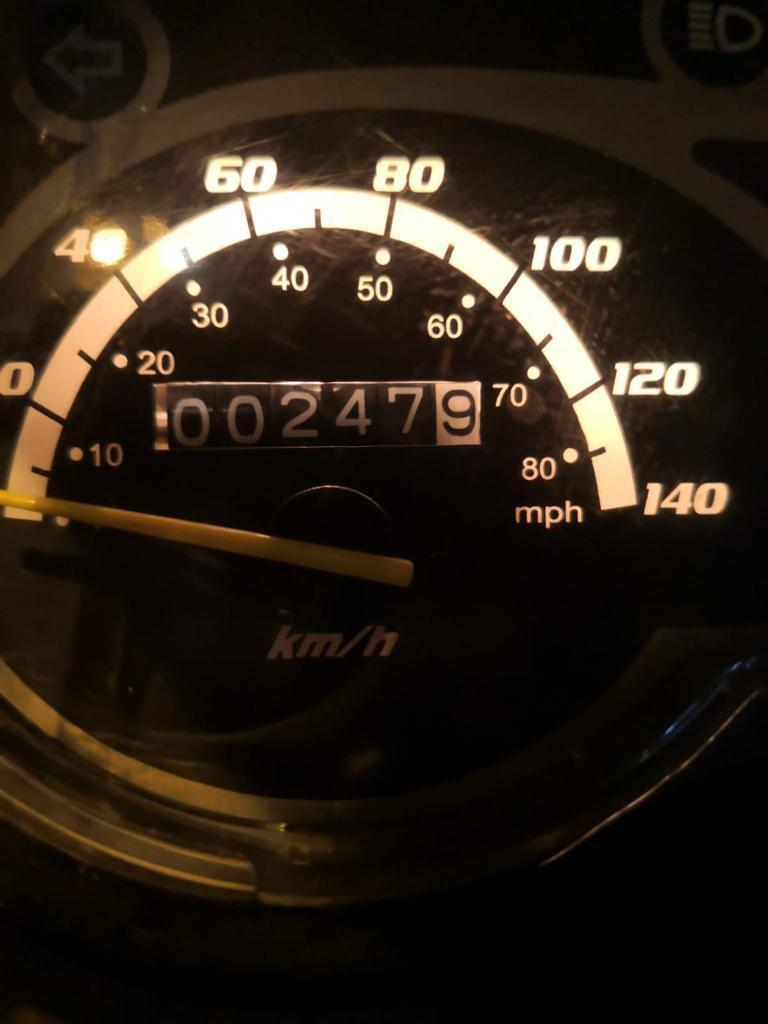0: (170, 391, 212, 451), (227, 389, 267, 445)
2: (275, 387, 320, 445)
4: (331, 385, 375, 437)
7: (385, 382, 426, 437)
9: (435, 383, 481, 442)
odometer: (146, 373, 491, 454)
